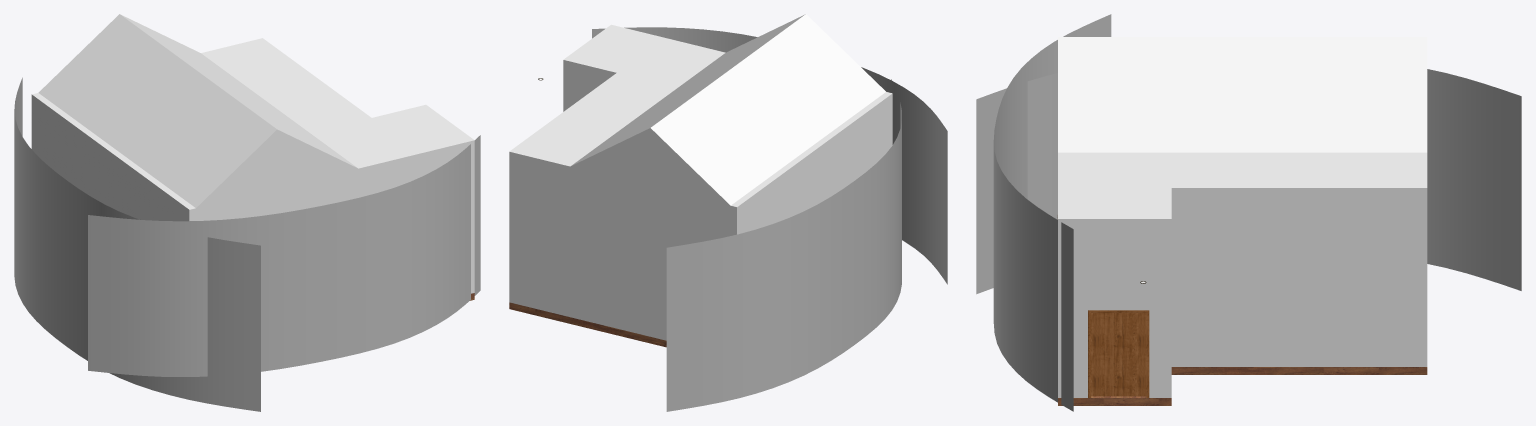
File: Living.fbx
The picture shows the model from 3 angles, left to right: view 1: azimuth 30°, elevation 25°; view 2: azimuth 150°, elevation 25°; view 3: azimuth 270°, elevation 25°; orthographic projection. The views are drawn at different scales.
Visible parts, largest first — view 1: Shell, Landscape01, Landscape02; view 2: Shell, Landscape02, Landscape01; view 3: Shell, Landscape02, Landscape01, Porta1.
Boxes of the visible parts, x1=… form: Shell: x1=31, y1=14, x2=474, y2=300; Landscape01: x1=88, y1=135, x2=480, y2=376; Landscape02: x1=14, y1=77, x2=260, y2=411; Shell: x1=509, y1=14, x2=892, y2=347; Landscape02: x1=666, y1=79, x2=901, y2=411; Landscape01: x1=592, y1=27, x2=947, y2=284; Shell: x1=1058, y1=37, x2=1427, y2=405; Landscape02: x1=976, y1=69, x2=1521, y2=294; Landscape01: x1=993, y1=14, x2=1111, y2=411; Porta1: x1=1088, y1=310, x2=1149, y2=397.
Bounding box in the file's own units: 1233 × 719 × 1240.
